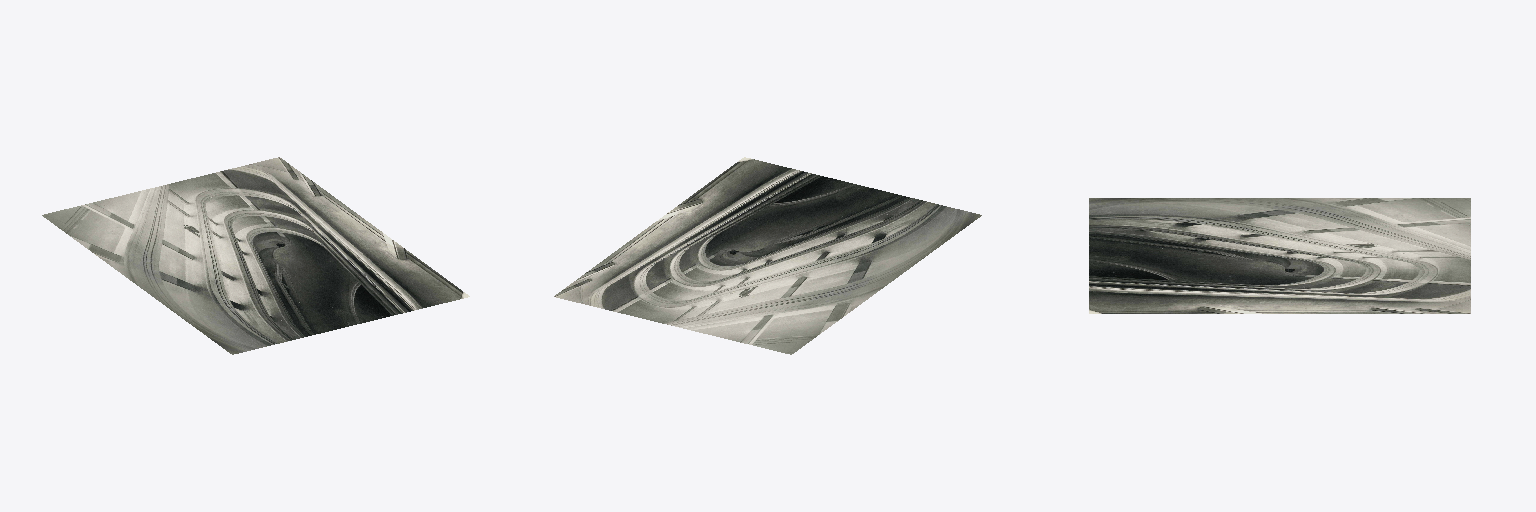
3 renders of one model, left to right at view 1: azimuth 30°, elevation 25°; view 2: azimuth 150°, elevation 25°; view 3: azimuth 270°, elevation 25°, orthographic.
Parts seen in each view (by area): view 1: Plane001; view 2: Plane001; view 3: Plane001.
Part boxes in pixels (left/top/right/bottom): Plane001: left=42, top=157, right=469, bottom=354; Plane001: left=554, top=157, right=981, bottom=354; Plane001: left=1089, top=198, right=1470, bottom=313.
Bounding box in the file's own units: 2.33 × 0 × 3.24.
1 materials, 1 textured.